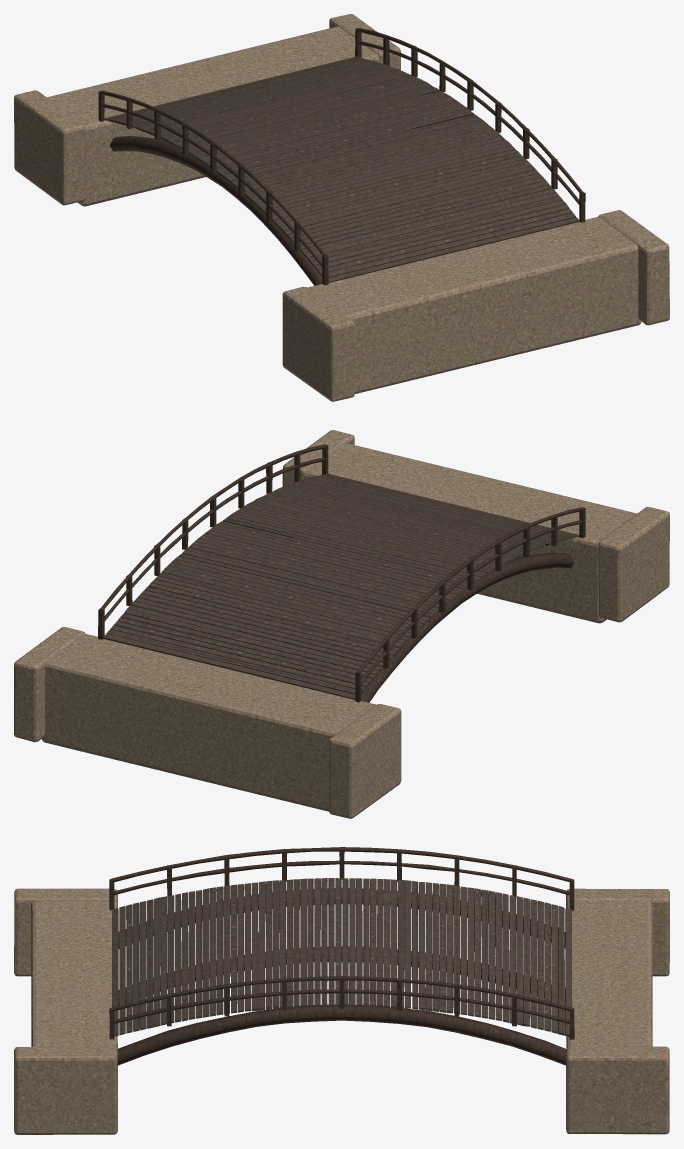
Rendered from river_bridge.glb.
3 renders of one model, top to bottom at view 1: azimuth 30°, elevation 25°; view 2: azimuth 150°, elevation 25°; view 3: azimuth 270°, elevation 25°, orthographic. The views are drawn at different scales.
Parts seen in each view (by area): view 1: river_bridge; view 2: river_bridge; view 3: river_bridge.
Boxes of the visible parts, x1,y1,x2,y2 form: river_bridge: [14, 14, 669, 401]; river_bridge: [14, 430, 669, 818]; river_bridge: [14, 847, 669, 1134].
Bounding box in the file's own units: 14.02 × 5.58 × 22.81.
Materials: 1 (1 with a texture image).
